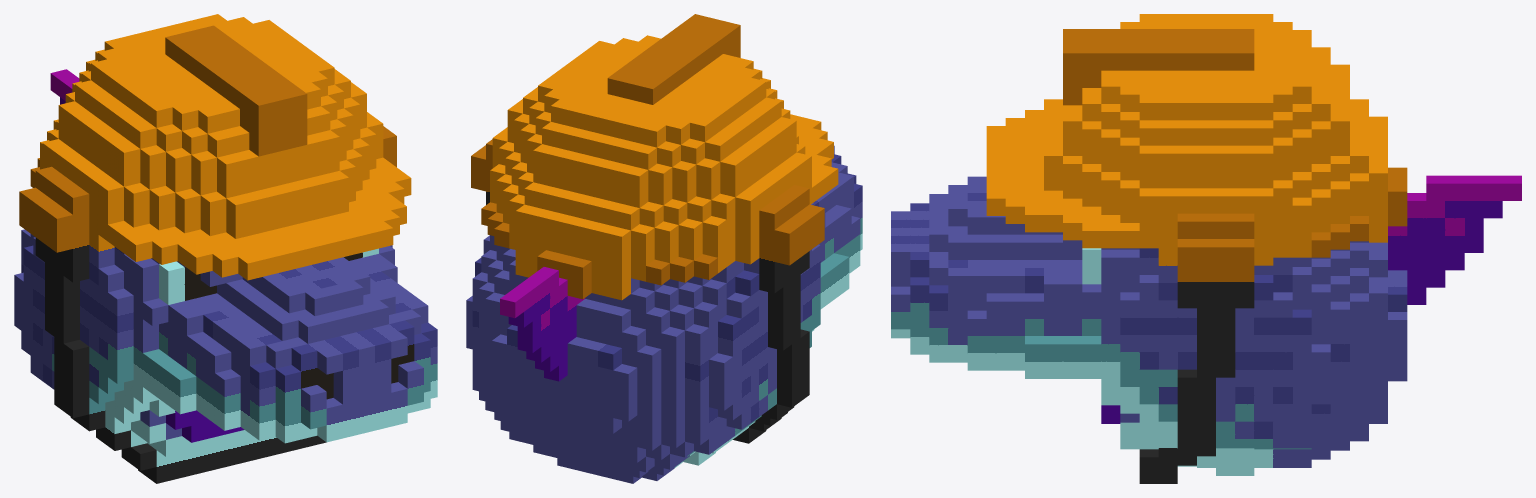
Rendered from yellow hard hat.gltf.
3 views of the same model, side by side, from view 1: azimuth 30°, elevation 25°; view 2: azimuth 150°, elevation 25°; view 3: azimuth 270°, elevation 25° (orthographic). The views are drawn at different scales.
Visible parts, largest first — view 1: 09_Zilla_Head_Yellow_Hard-Mesh; view 2: 09_Zilla_Head_Yellow_Hard-Mesh; view 3: 09_Zilla_Head_Yellow_Hard-Mesh.
Part boxes in pixels (<box>): 09_Zilla_Head_Yellow_Hard-Mesh: <box>14,14,437,483</box>; 09_Zilla_Head_Yellow_Hard-Mesh: <box>466,14,862,483</box>; 09_Zilla_Head_Yellow_Hard-Mesh: <box>891,14,1521,483</box>.
Size of the model in its own units: 21 by 23 by 33.
Materials: 1 (1 with a texture image).
